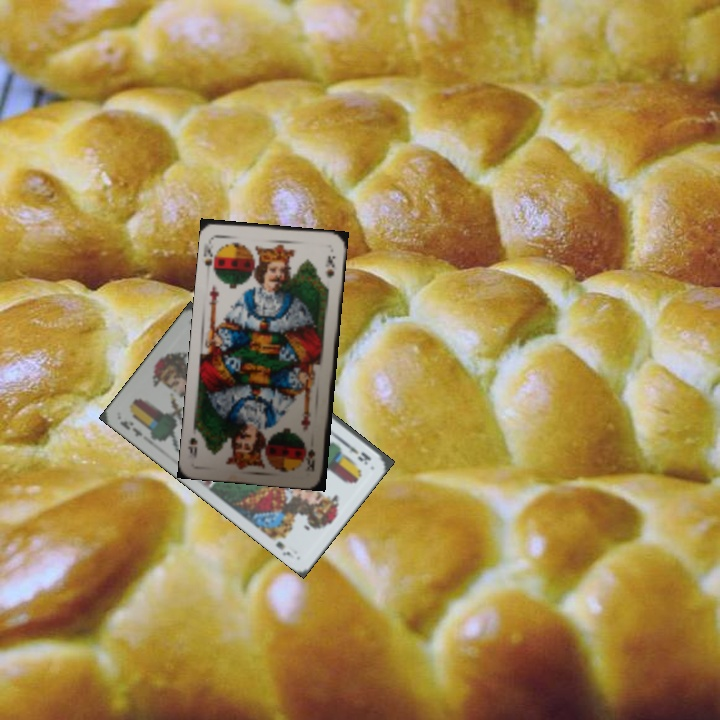EK: (338, 437, 374, 467), (115, 417, 145, 439)
SK: (200, 234, 221, 275), (302, 445, 318, 474)
